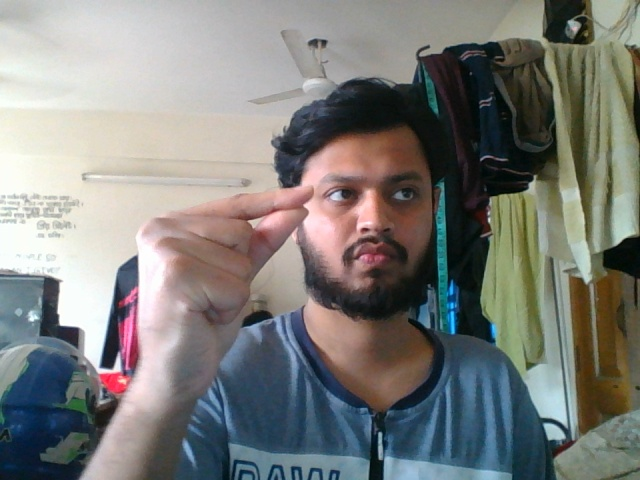onushhar: (128, 181, 314, 378)
